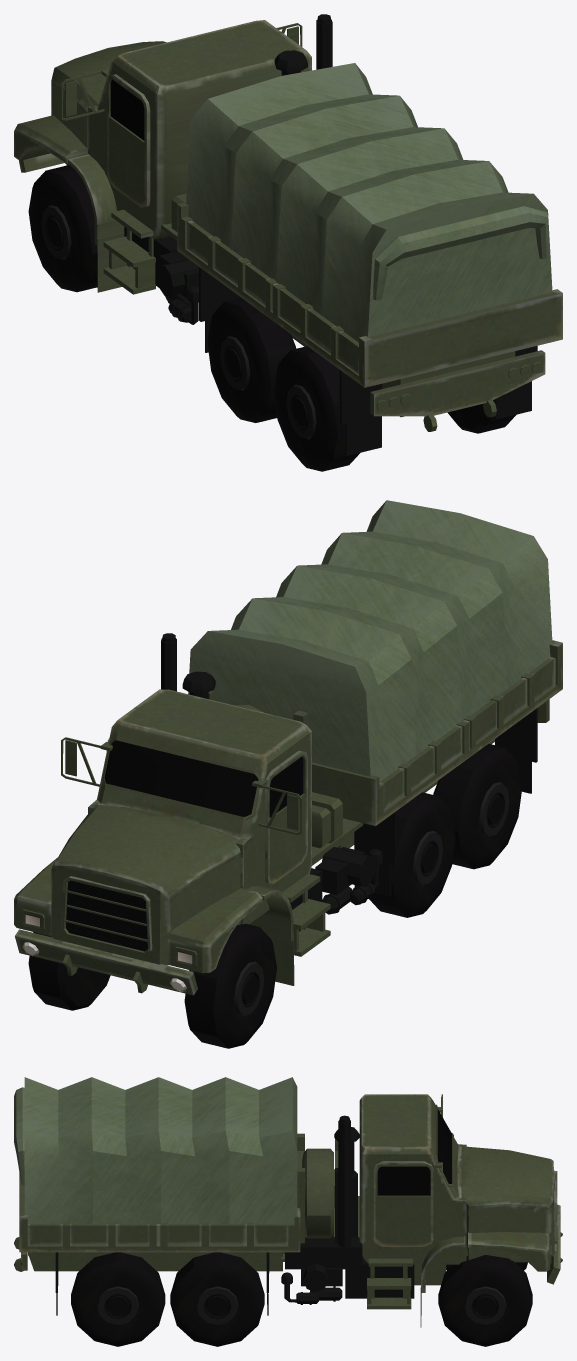
Rendered from mtvr.obj.
3 renders of one model, top to bottom at view 1: azimuth 30°, elevation 25°; view 2: azimuth 150°, elevation 25°; view 3: azimuth 270°, elevation 25°, orthographic. The views are drawn at different scales.
Visible parts, largest first — view 1: mesh-0.001_mesh-0-geometry-model.001; view 2: mesh-0.001_mesh-0-geometry-model.001; view 3: mesh-0.001_mesh-0-geometry-model.001.
Part boxes in pixels (x1,y1,x2,y2): mesh-0.001_mesh-0-geometry-model.001: [14, 14, 562, 471]; mesh-0.001_mesh-0-geometry-model.001: [14, 500, 562, 1048]; mesh-0.001_mesh-0-geometry-model.001: [14, 1077, 562, 1346].
Bounding box in the file's own units: 2.97 × 3.52 × 7.82.
